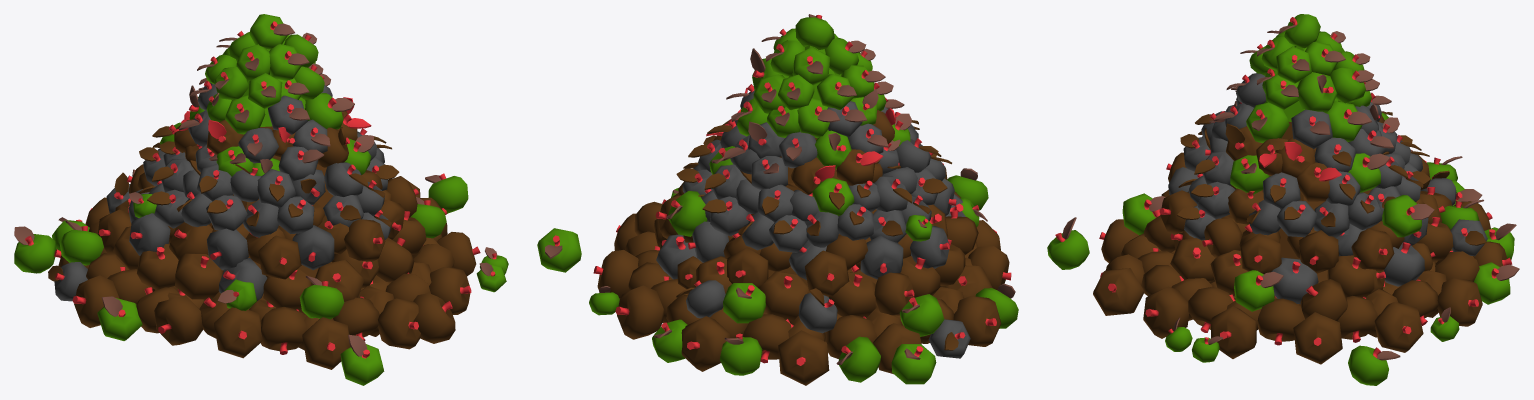
Rendered from Apples.fbx.
3 renders of one model, left to right at view 1: azimuth 30°, elevation 25°; view 2: azimuth 150°, elevation 25°; view 3: azimuth 270°, elevation 25°, orthographic. The views are drawn at different scales.
Visible parts, largest first — view 1: Яблоки_LOD0; view 2: Яблоки_LOD0; view 3: Яблоки_LOD0.
Part boxes in pixels (x1,y1,x2,y2): Яблоки_LOD0: (14, 14, 508, 385); Яблоки_LOD0: (537, 14, 1018, 385); Яблоки_LOD0: (1047, 14, 1519, 385).
Size of what is drawn, in the model's own units: 116 by 72.45 by 116.
